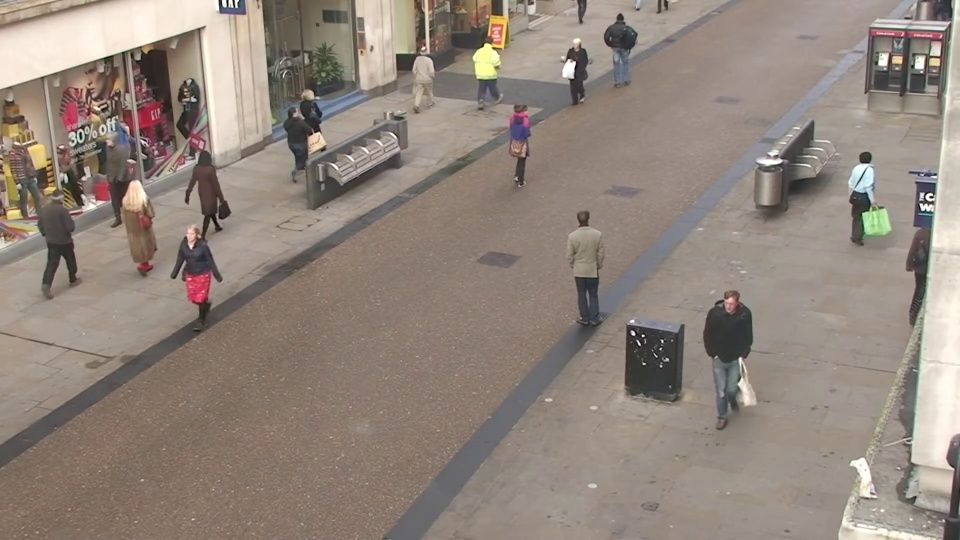pedestrian: (703, 290, 753, 432), (164, 224, 214, 346), (47, 176, 99, 286), (124, 169, 169, 277), (842, 146, 885, 251), (564, 203, 601, 324), (87, 130, 131, 227), (195, 143, 235, 243), (284, 98, 318, 187), (302, 84, 334, 170), (509, 97, 539, 188), (414, 40, 441, 114), (561, 39, 587, 113), (480, 31, 506, 102), (611, 10, 633, 77)
